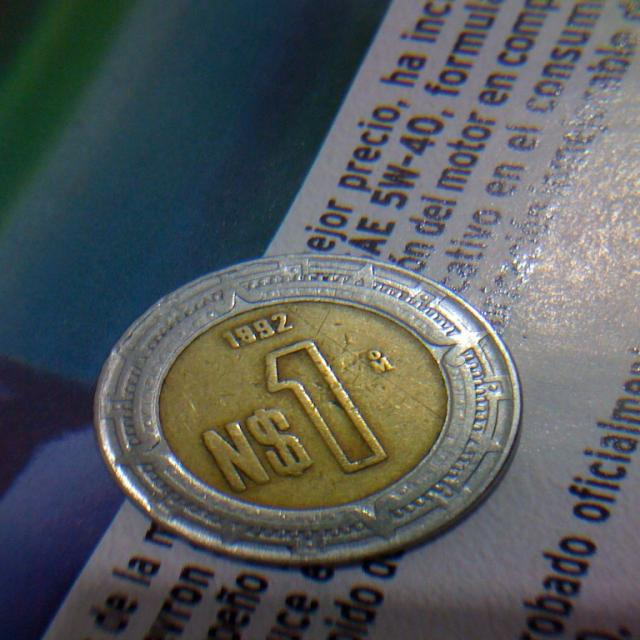Coin: (91, 258, 523, 559)
